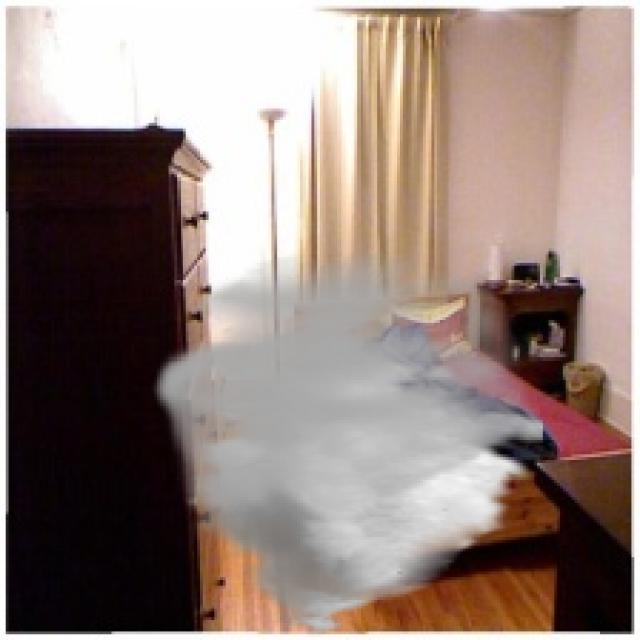Smoke: (148, 252, 543, 637)
